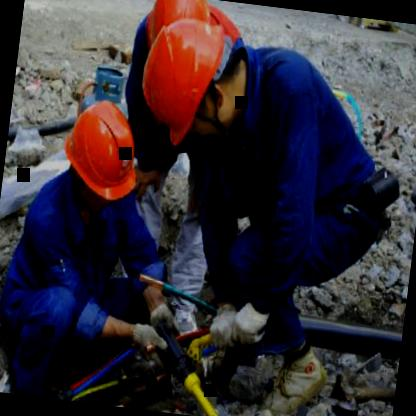helmet: (126, 12, 242, 150), (52, 87, 148, 220), (138, 0, 221, 58)
